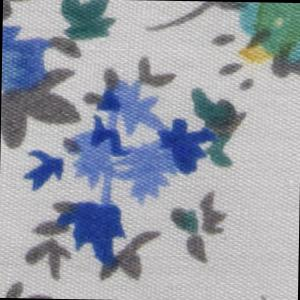Oil Stain: (233, 2, 300, 69)
